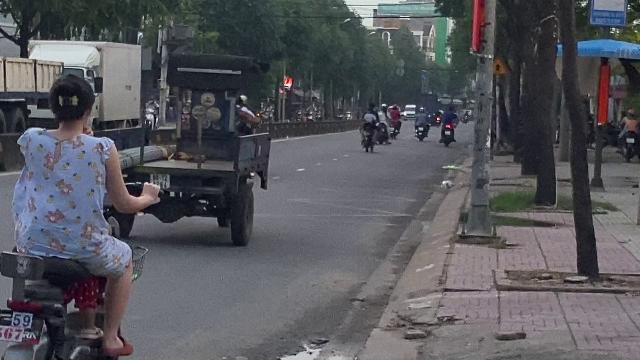motorcyclist: (1, 71, 158, 359)
nohelmet: (46, 72, 98, 128)
